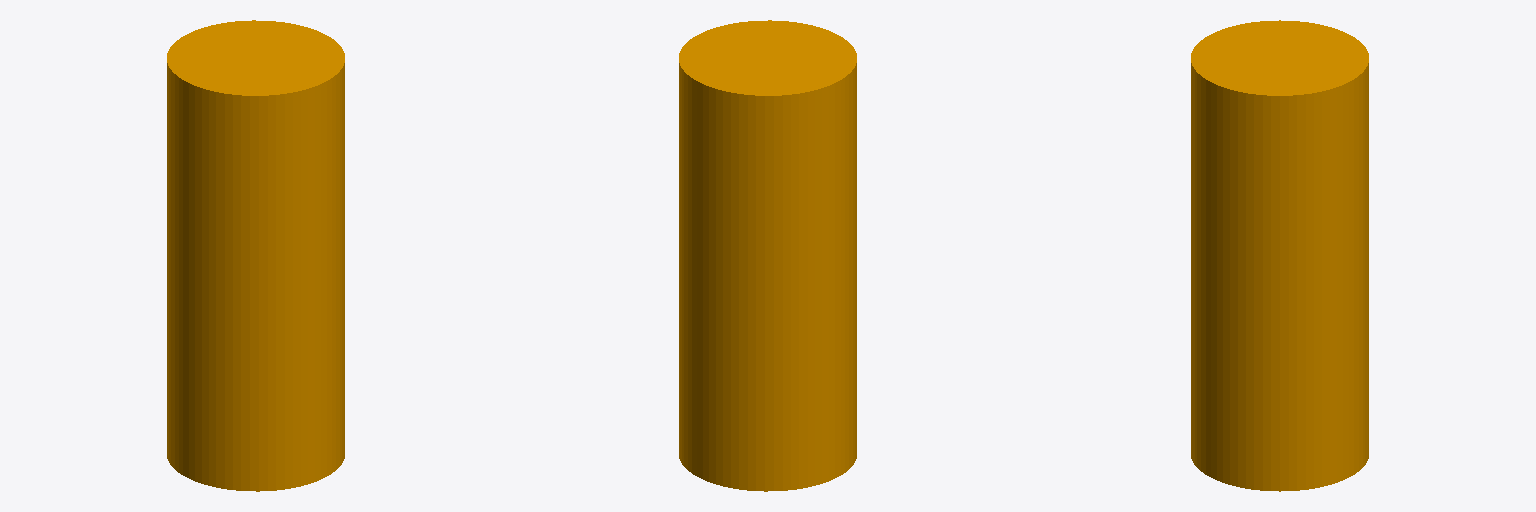
URDF robot description (tumbler):
<?xml version="1.0"?>
<!-- tumbler.urdf 의 6자유도 판.
     캡을 body 에 cap_spin(z회전) + cap_lift(z이동) + 여분 4개(cap_tx/ty 수평,
     cap_rx/ry 기울임) 사슬로 연결한다. 잠긴 동안 여분 4개는 screw_coupling 이
     강성 위치 드라이브로 0 에 고정하므로 기존 2자유도 판과 같은 거동이고,
     해제(180도) 순간 드라이브를 꺼서 캡이 완전 자유 강체처럼 움직인다
     (기울고, 미끄러지고, 계속 돈다). 2자유도 판은 해제 후에도 z 회전+상승만
     가능해서 손이 캡을 기울이거나 옆으로 빼낼 수 없었다.
     cap_spin 상한은 나사끝(180도)+2도 여유 (tumbler.urdf 의 주석 참조).
     해제 시 spin 한계 확장은 screw_coupling.release_bound() 가 담당한다. -->
<!-- make_cyl_tumbler.py 생성: cap r=44.0/h=16.0mm, body R=44.0/H=215.0mm, 64각 -->
<!-- spin friction 0.200 Nm -->
<robot name="tumbler">
  <link name="body">
    <visual>
      <geometry><mesh filename="meshes/tumbler_cyl_r44_fric02_body.obj"/></geometry>
    </visual>
    <collision>
      <geometry><mesh filename="meshes/tumbler_cyl_r44_fric02_body.obj"/></geometry>
    </collision>
    <inertial>
      <mass value="0.3"/>
      <origin xyz="0.020946 0.000643 0.134835"/>
      <inertia ixx="0.00167630" iyy="0.00206606" izz="0.00082941" ixy="0" ixz="0" iyz="0"/>
    </inertial>
  </link>

  <link name="cap_spinner">
    <inertial>
      <mass value="1e-4"/>
      <inertia ixx="1e-8" iyy="1e-8" izz="1e-8" ixy="0" ixz="0" iyz="0"/>
    </inertial>
  </link>
  <joint name="cap_spin" type="revolute">
    <parent link="body"/>
    <child link="cap_spinner"/>
    <origin xyz="0 0 0.215000"/>
    <axis xyz="0 0 1"/>
    <limit lower="-0.020000" upper="3.176499" effort="50.0" velocity="20.0"/>
    <dynamics damping="0.001" friction="0.200"/>
  </joint>

  <link name="cap_lifter">
    <inertial>
      <mass value="1e-4"/>
      <inertia ixx="1e-8" iyy="1e-8" izz="1e-8" ixy="0" ixz="0" iyz="0"/>
    </inertial>
  </link>
  <joint name="cap_lift" type="prismatic">
    <parent link="cap_spinner"/>
    <child link="cap_lifter"/>
    <origin xyz="0 0 0"/>
    <axis xyz="0 0 1"/>
    <limit lower="0.0" upper="0.13" effort="100.0" velocity="5.0"/>
    <mimic joint="cap_spin" multiplier="3.18309886e-03" offset="0.0"/>
  </joint>

  <!-- 여분 4자유도. 잠긴 동안 screw_coupling 이 강성 드라이브로 0 고정. -->
  <link name="cap_fx">
    <inertial>
      <mass value="1e-4"/>
      <inertia ixx="1e-8" iyy="1e-8" izz="1e-8" ixy="0" ixz="0" iyz="0"/>
    </inertial>
  </link>
  <joint name="cap_tx" type="prismatic">
    <parent link="cap_lifter"/>
    <child link="cap_fx"/>
    <origin xyz="0 0 0"/>
    <axis xyz="1 0 0"/>
    <limit lower="-0.5" upper="0.5" effort="100.0" velocity="5.0"/>
  </joint>

  <link name="cap_fy">
    <inertial>
      <mass value="1e-4"/>
      <inertia ixx="1e-8" iyy="1e-8" izz="1e-8" ixy="0" ixz="0" iyz="0"/>
    </inertial>
  </link>
  <joint name="cap_ty" type="prismatic">
    <parent link="cap_fx"/>
    <child link="cap_fy"/>
    <origin xyz="0 0 0"/>
    <axis xyz="0 1 0"/>
    <limit lower="-0.5" upper="0.5" effort="100.0" velocity="5.0"/>
  </joint>

  <link name="cap_frx">
    <inertial>
      <mass value="1e-4"/>
      <inertia ixx="1e-8" iyy="1e-8" izz="1e-8" ixy="0" ixz="0" iyz="0"/>
    </inertial>
  </link>
  <joint name="cap_rx" type="revolute">
    <parent link="cap_fy"/>
    <child link="cap_frx"/>
    <origin xyz="0 0 0"/>
    <axis xyz="1 0 0"/>
    <limit lower="-3.1416" upper="3.1416" effort="50.0" velocity="20.0"/>
  </joint>

  <joint name="cap_ry" type="revolute">
    <parent link="cap_frx"/>
    <child link="cap"/>
    <origin xyz="0 0 0"/>
    <axis xyz="0 1 0"/>
    <limit lower="-3.1416" upper="3.1416" effort="50.0" velocity="20.0"/>
  </joint>

  <link name="cap">
    <visual>
      <geometry><mesh filename="meshes/tumbler_cyl_r44_fric02_cap.obj"/></geometry>
    </visual>
    <collision>
      <geometry><mesh filename="meshes/tumbler_cyl_r44_fric02_cap.obj"/></geometry>
    </collision>
    <inertial>
      <mass value="0.050"/>
      <origin xyz="0 0 0.008000"/>
      <inertia ixx="0.00002527" iyy="0.00002527" izz="0.00004840" ixy="0" ixz="0" iyz="0"/>
    </inertial>
  </link>

  <!-- 매끈한 원통이라 그대로는 미끄럽다. 나사산 대신 마찰로 그립을 만든다. -->
  <gazebo reference="cap"><mu1>2.0</mu1><mu2>2.0</mu2></gazebo>
  <gazebo reference="body"><mu1>2.0</mu1><mu2>2.0</mu2></gazebo>
</robot>

--- Facts derived from the render (not from the file) ---
3 views of the same robot in one strip: view 1: azimuth 30°, elevation 25°; view 2: azimuth 150°, elevation 25°; view 3: azimuth 270°, elevation 25° (orthographic).
Model tumbler with 7 links and 6 joints (3 revolute, 3 prismatic), rooted at body, posed every joint at zero.
Visible links, largest first — view 1: body; view 2: body; view 3: body.
Link boxes in pixels (x1=…): body: x1=167, y1=20, x2=344, y2=491; body: x1=679, y1=20, x2=856, y2=491; body: x1=1191, y1=20, x2=1368, y2=491.
Bounding box of the posed robot: 0.088 × 0.088 × 0.215 m (x, y, z).
Meshes: 2 distinct files referenced, 1 mesh visuals loaded (1 OBJ); not drawn: 1 (reference not matched to a file when rendering).
